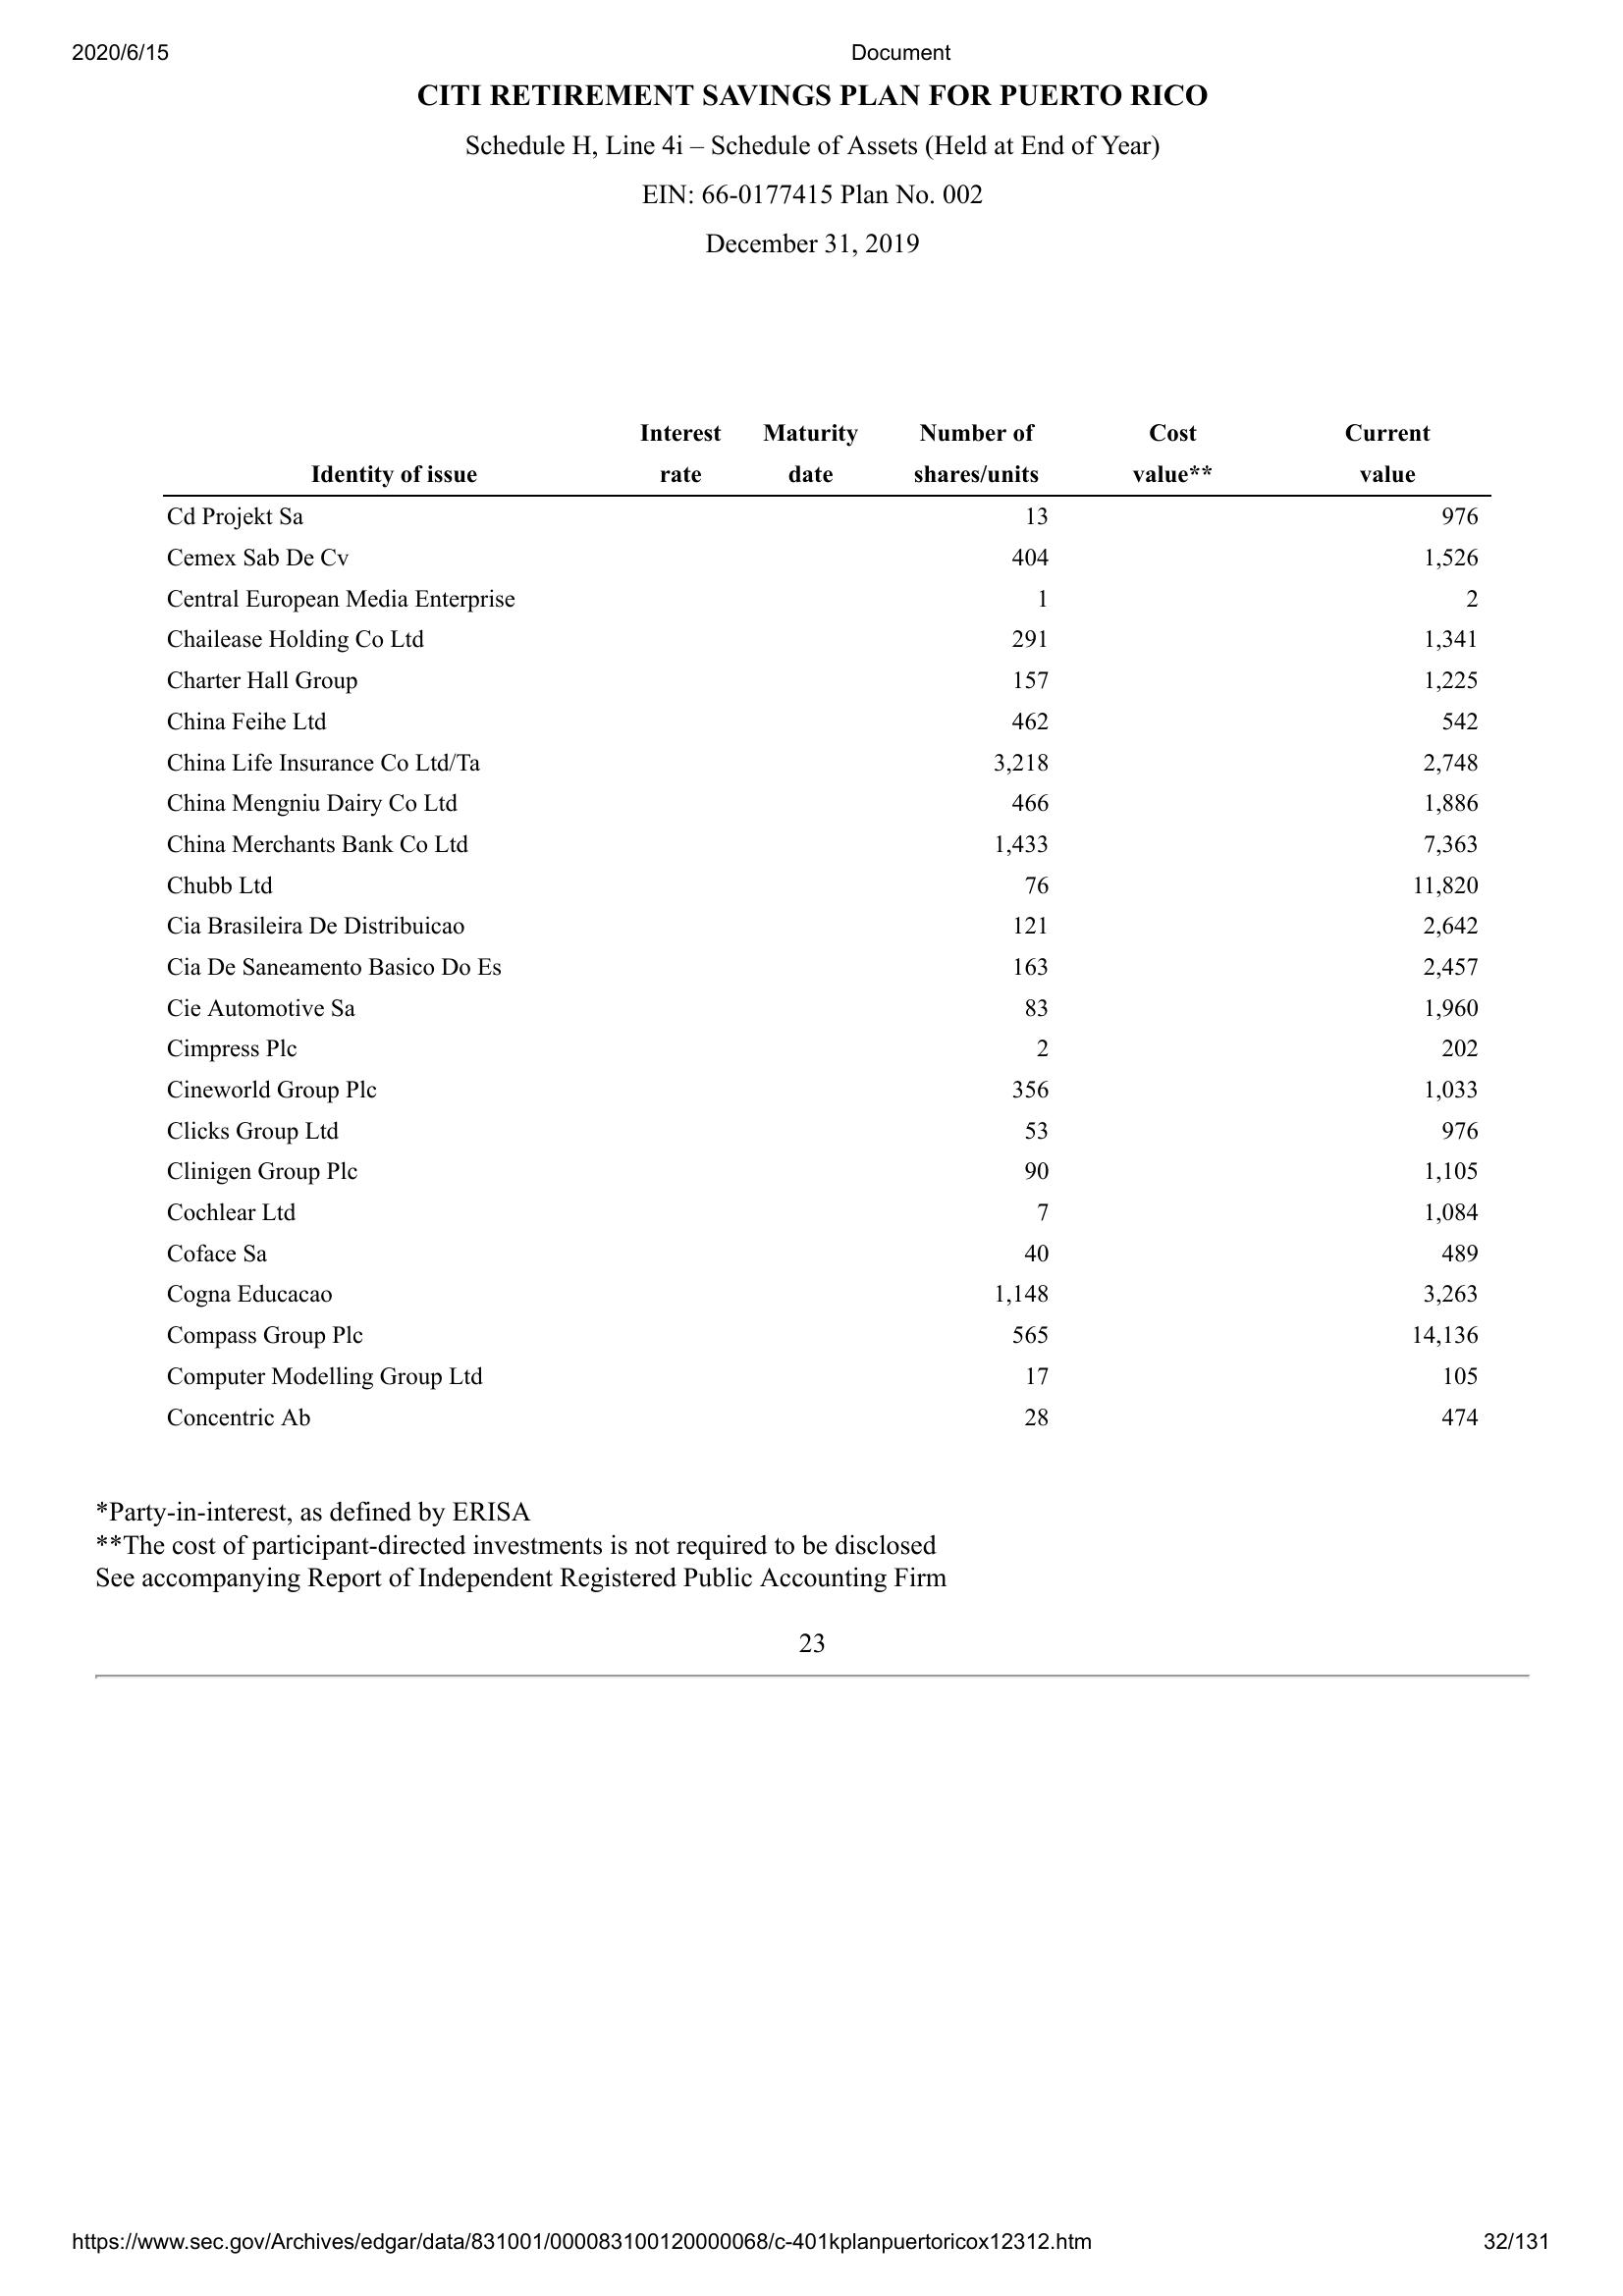table: (160, 421, 1491, 1439)
